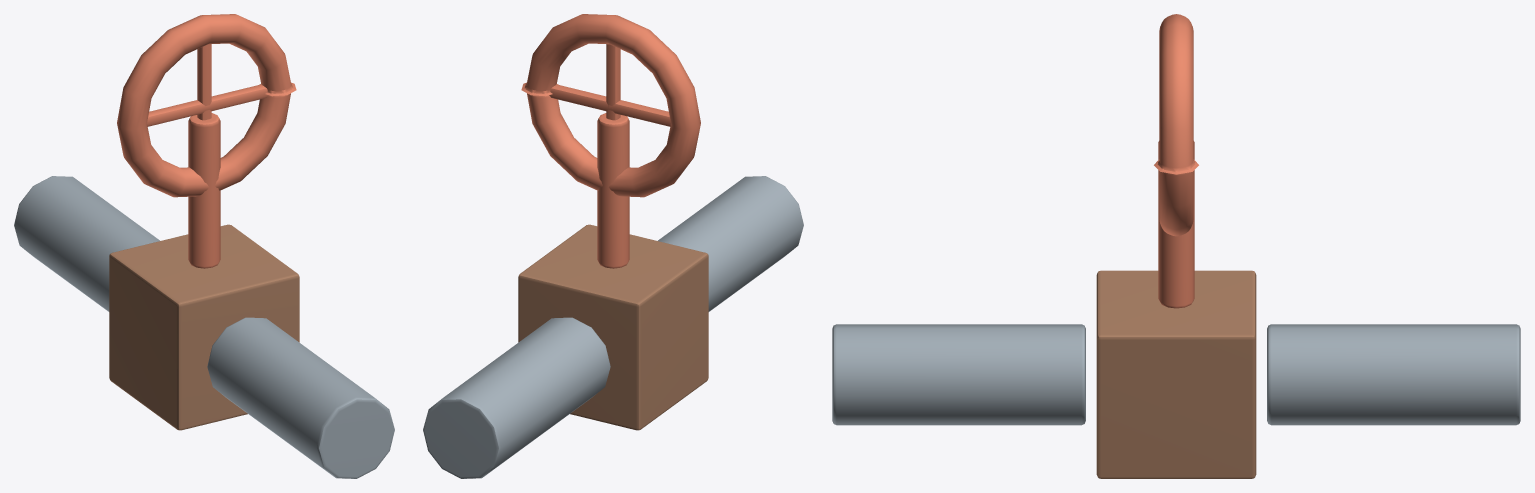
Rendered from pipe_valve.glb.
3 renders of one model, left to right at view 1: azimuth 30°, elevation 25°; view 2: azimuth 150°, elevation 25°; view 3: azimuth 270°, elevation 25°, orthographic. The views are drawn at different scales.
Visible parts, largest first — view 1: pipe_valve; view 2: pipe_valve; view 3: pipe_valve.
Boxes of the visible parts, left/top/right/bottom form: pipe_valve: left=14, top=14, right=394, bottom=478; pipe_valve: left=423, top=14, right=803, bottom=478; pipe_valve: left=832, top=14, right=1520, bottom=478.
Size of the model in its own units: 0.3151 by 0.6437 by 0.95.
